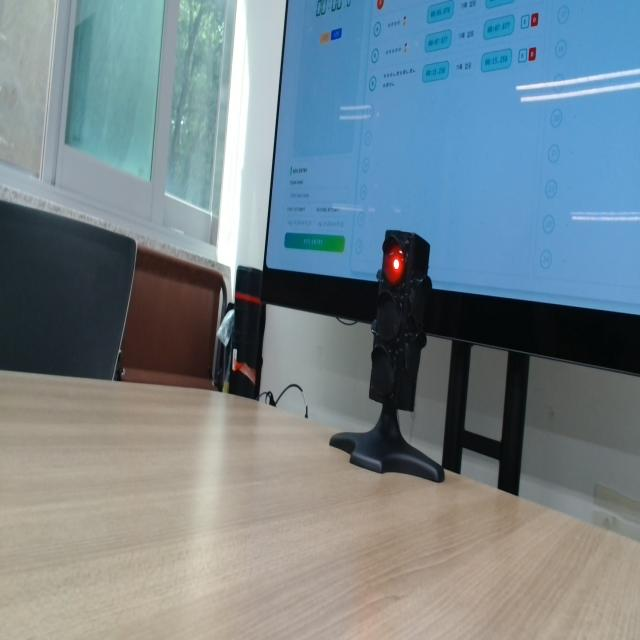red_light: (383, 243, 404, 285)
